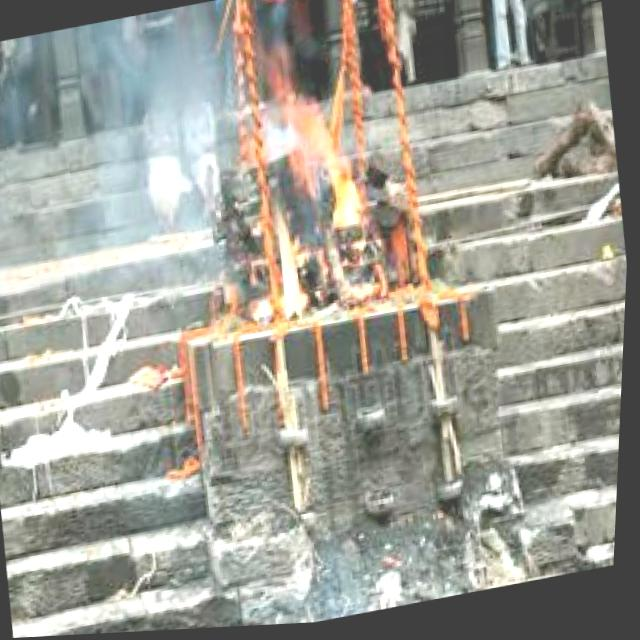Fire: (237, 58, 386, 327)
